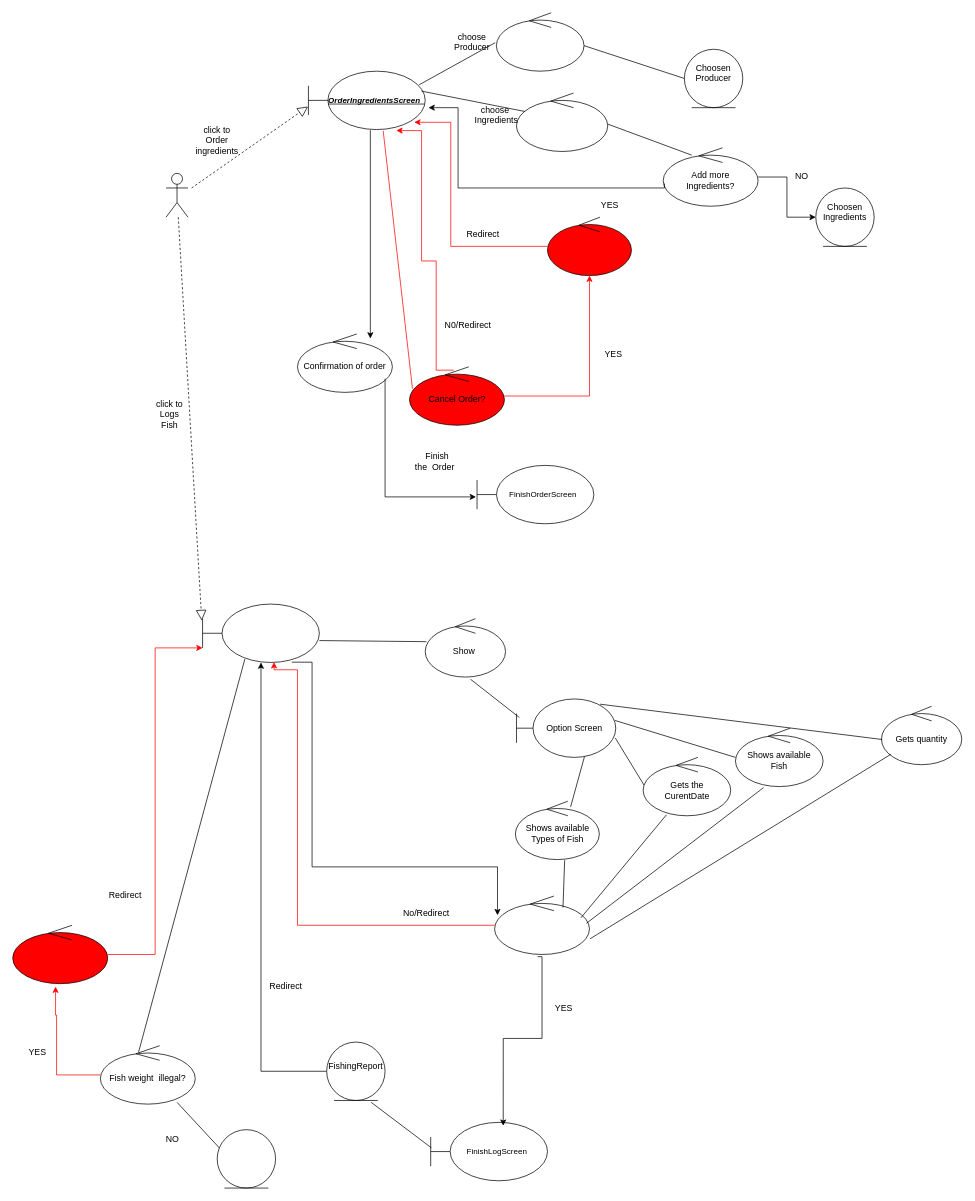
The diagram is 975 pixels wide and 1201 high, and some of its shapes have lost their labels. Each missing label, with the centre of its shape:
"Error message: FIsh is illegal to catch" belongs at pixel 60 954.
"Finish loging Fish?" belongs at pixel 541 924.
"Get available Ingredients" belongs at pixel 562 121.
"Get available Producers" belongs at pixel 540 41.
"LogFishScreen" belongs at pixel 260 632.
"Order Canceled Successfully" belongs at pixel 589 246.
"User" belongs at pixel 176 195.
"Weight of Fish" belongs at pixel 246 1158.
